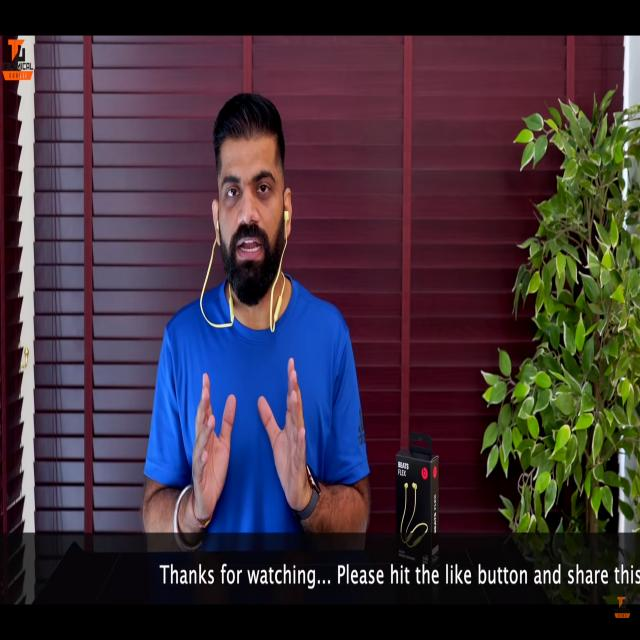Neckband: (200, 210, 290, 334)
